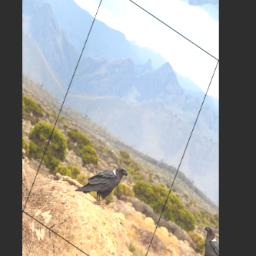Crow: (72, 144, 131, 220)
